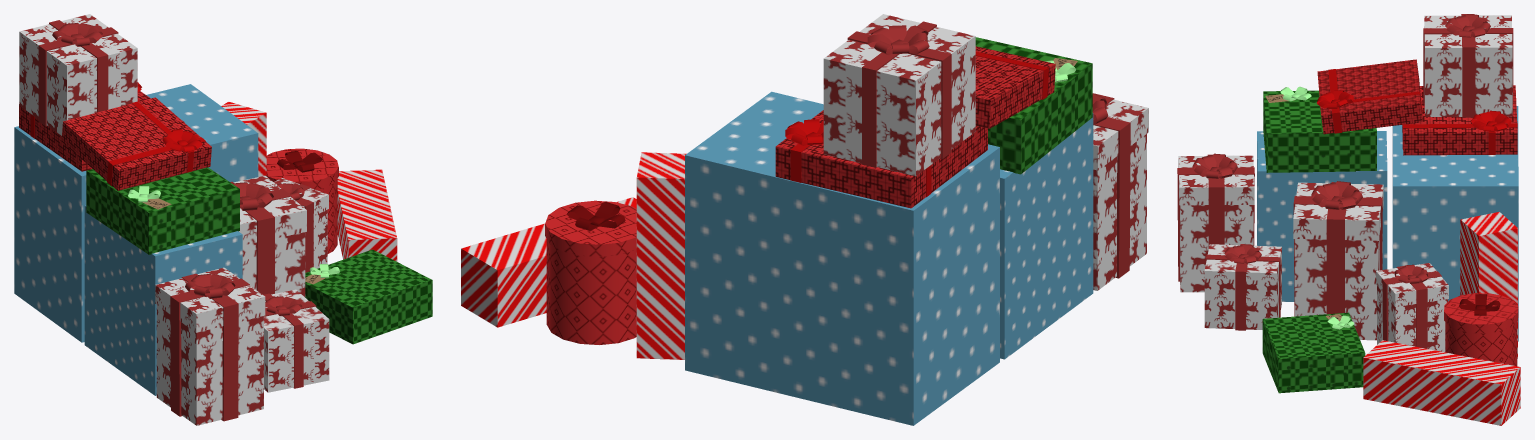
The model's file is stacked_presents_corner_01.fbx.
The picture shows the model from 3 angles, left to right: view 1: azimuth 30°, elevation 25°; view 2: azimuth 150°, elevation 25°; view 3: azimuth 270°, elevation 25°; orthographic projection. The views are drawn at different scales.
Visible parts, largest first — view 1: xmas_presents_stacked_corner_01; view 2: xmas_presents_stacked_corner_01; view 3: xmas_presents_stacked_corner_01.
Boxes of the visible parts, x1=… form: xmas_presents_stacked_corner_01: x1=14, y1=14, x2=432, y2=425; xmas_presents_stacked_corner_01: x1=461, y1=14, x2=1148, y2=425; xmas_presents_stacked_corner_01: x1=1177, y1=14, x2=1520, y2=425.
Size of the model in its own units: 136 by 97.95 by 119.
